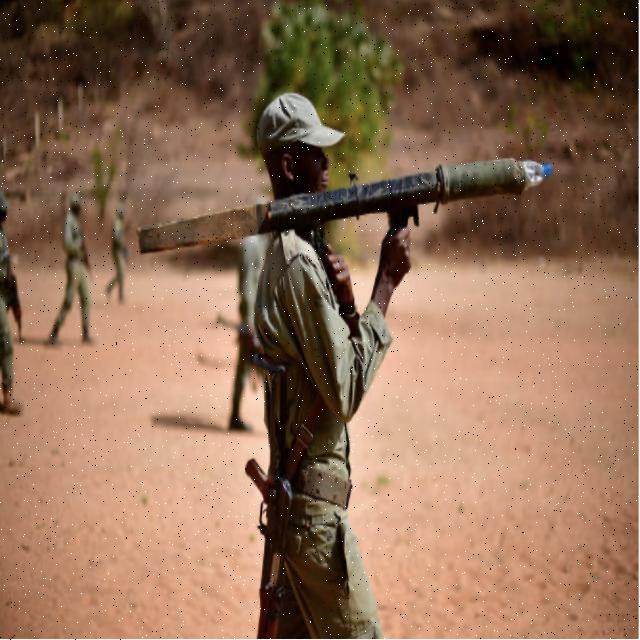bazooka: (137, 150, 559, 259)
